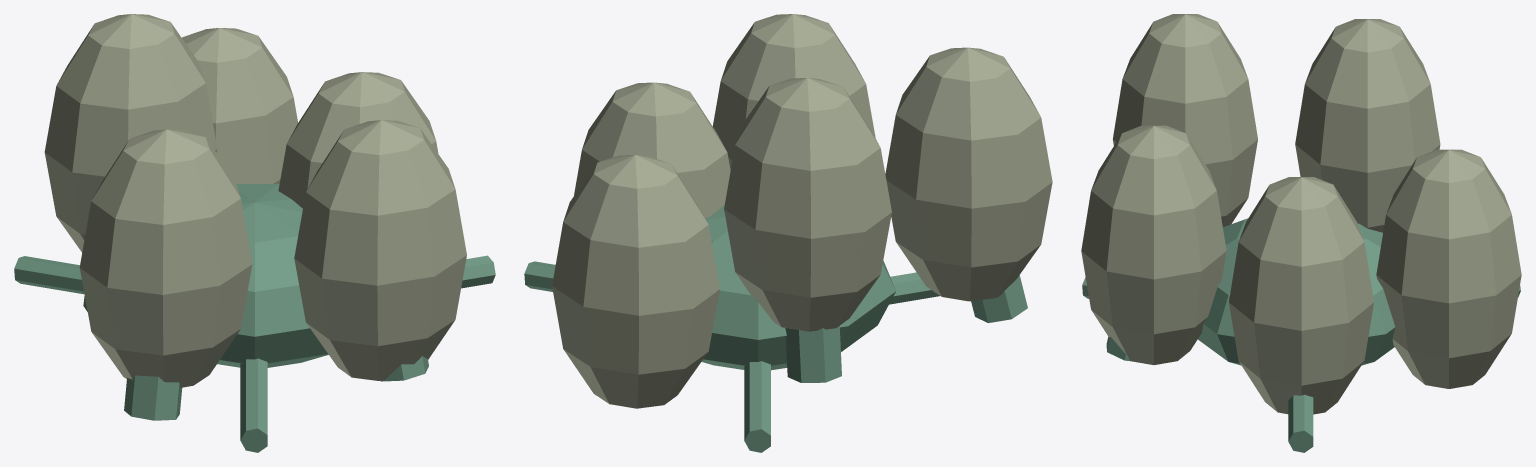
File: lumemoss-dead.glb
3 renders of one model, left to right at view 1: azimuth 30°, elevation 25°; view 2: azimuth 150°, elevation 25°; view 3: azimuth 270°, elevation 25°, orthographic. The views are drawn at different scales.
Parts seen in each view (by area): view 1: lumemoss.sway-pivot; view 2: lumemoss.sway-pivot; view 3: lumemoss.sway-pivot.
Part boxes in pixels (box(x1,y1,x2,y2)): lumemoss.sway-pivot: box(14, 14, 495, 452); lumemoss.sway-pivot: box(524, 14, 1052, 452); lumemoss.sway-pivot: box(1081, 14, 1521, 452).
Bounding box in the file's own units: 0.3304 × 0.2333 × 0.3008.
